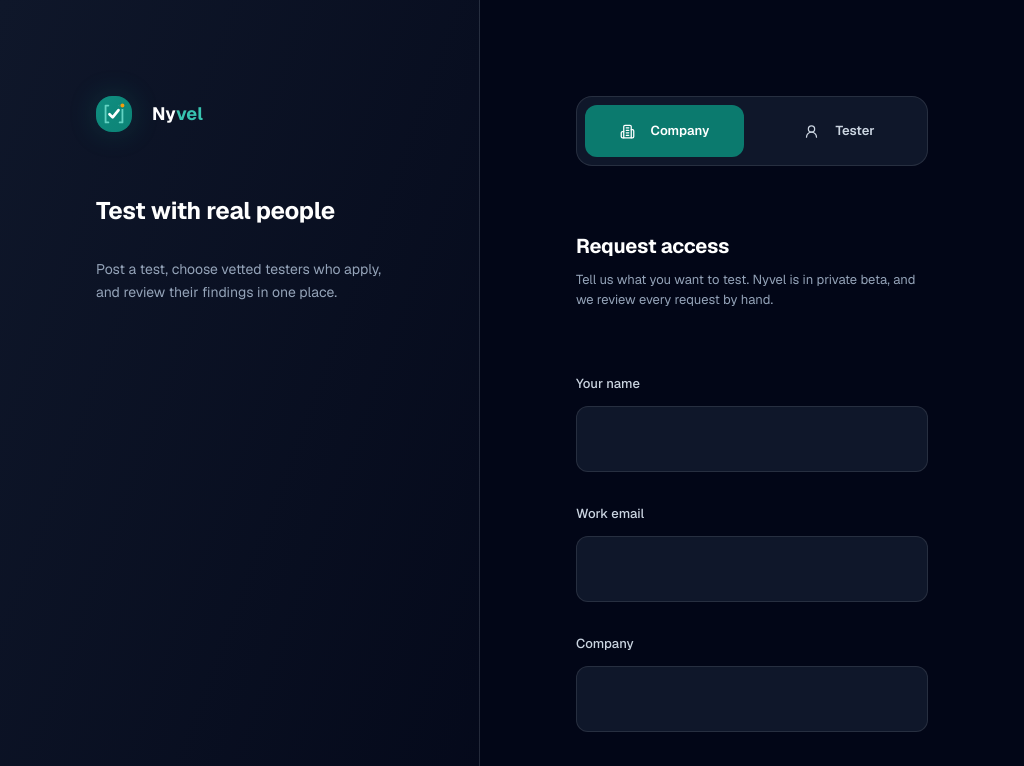
RequestAccess page › submits a company request with only company fields and shows a confirmation
Type " Dana " into the field labelled "Your name" at coordinates (752, 439), box x1=576 y1=406 x2=928 y2=472
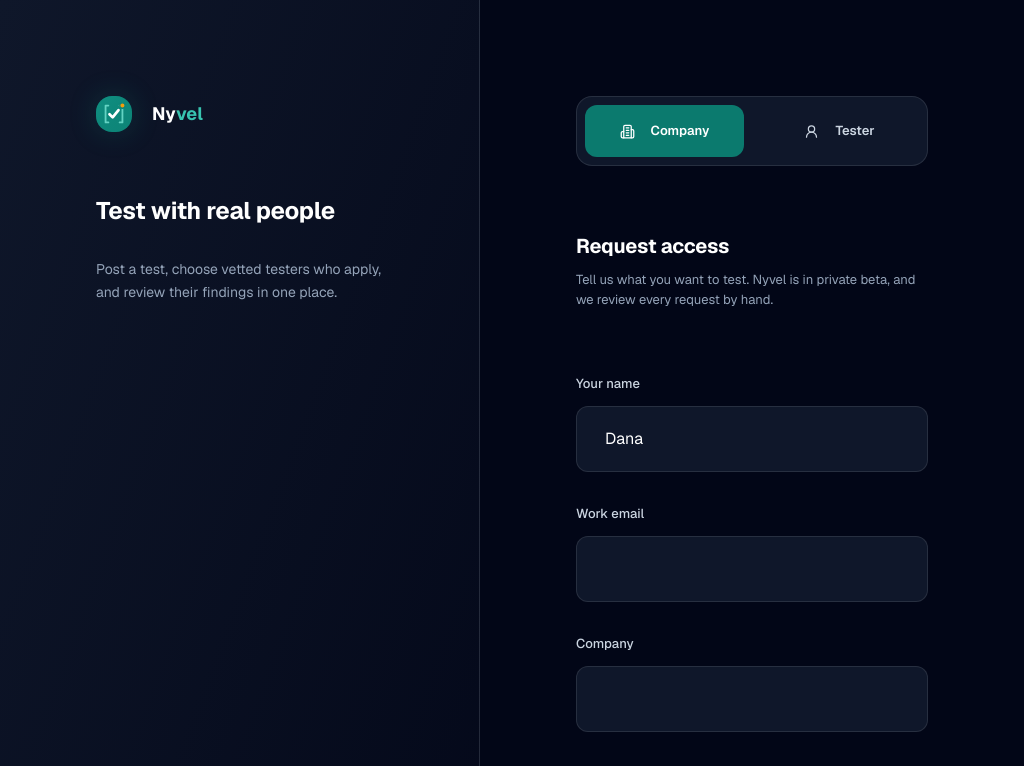
Type "dana@acme.io" into the field labelled "Work email" at coordinates (752, 569), box x1=576 y1=536 x2=928 y2=602
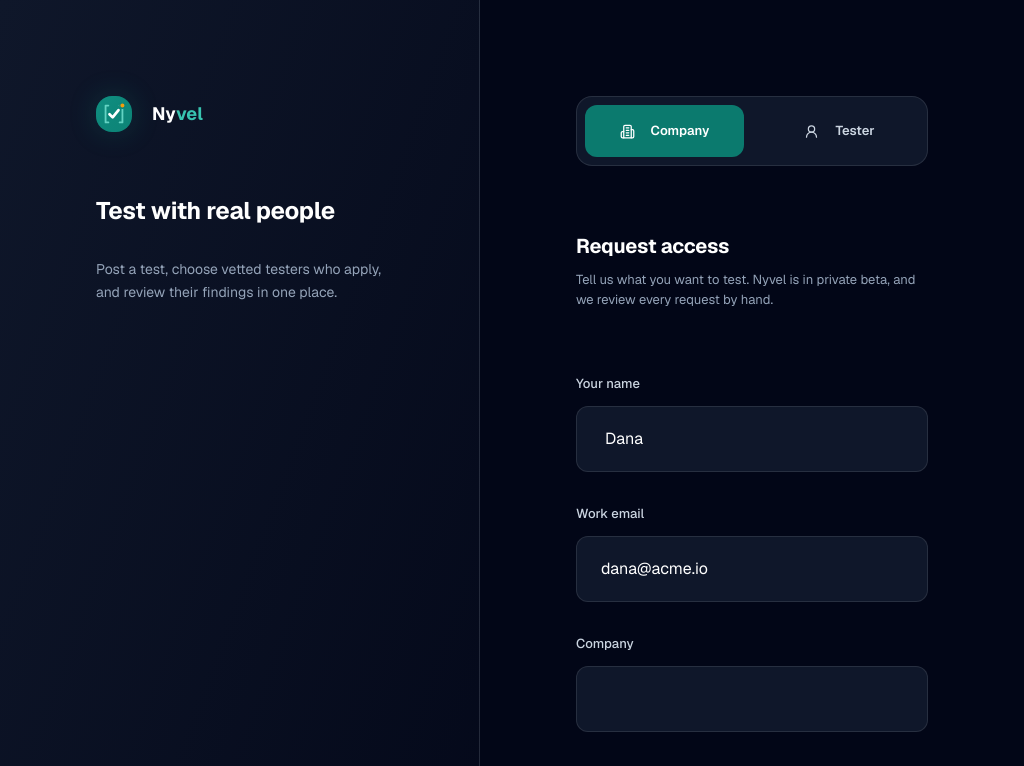
Type "Acme" into the field labelled "Company" at coordinates (752, 699), box x1=576 y1=666 x2=928 y2=732
(page scrolled)
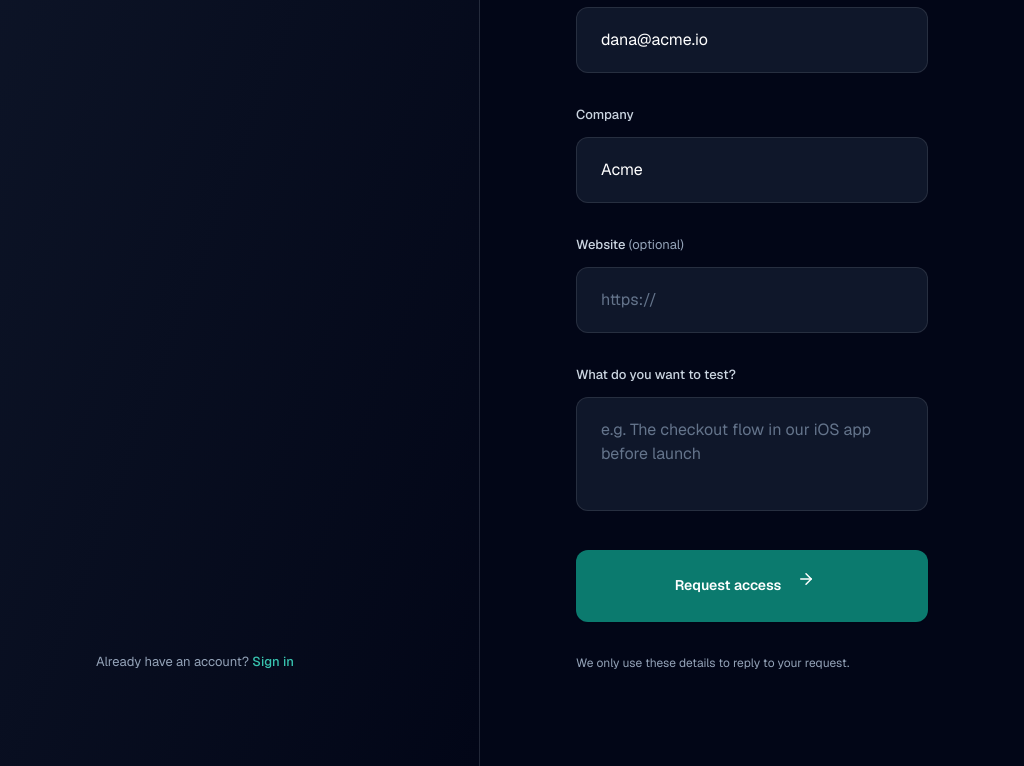
Click the button "Request access" at coordinates (752, 586), box x1=576 y1=550 x2=928 y2=622
(page scrolled)
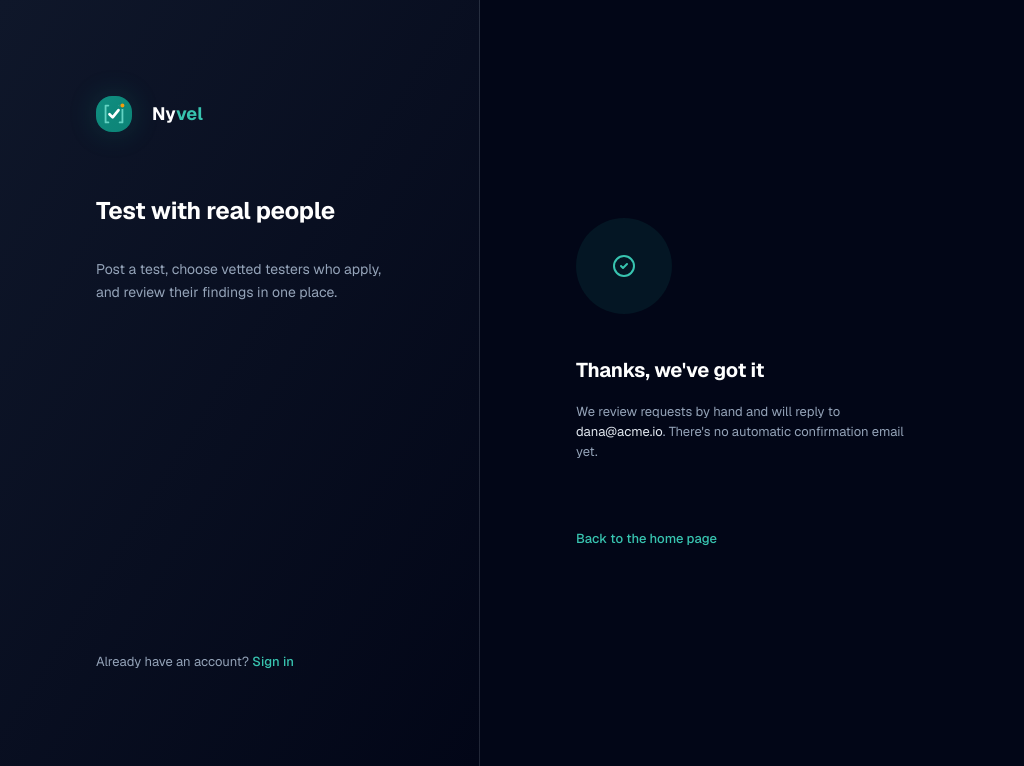
Check: the heading "Thanks, we've got it" is shown, box x1=576 y1=357 x2=764 y2=383
Check: the text "dana@acme.io" is shown, box x1=576 y1=423 x2=663 y2=440
